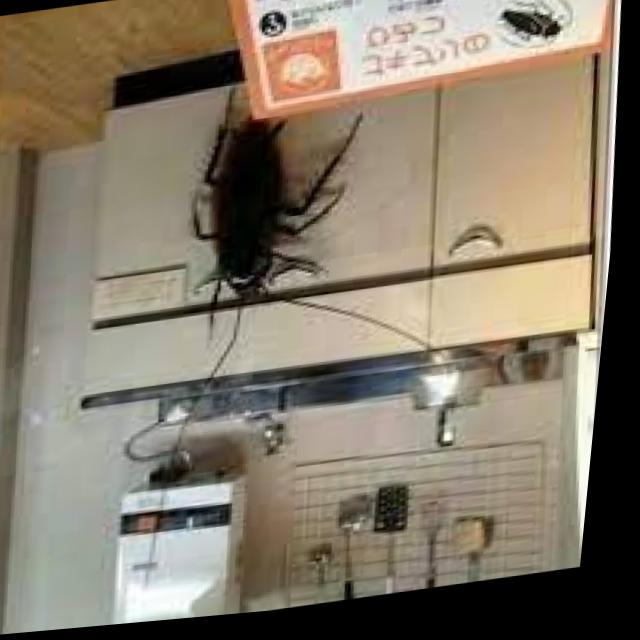Cockroach: (161, 79, 351, 385)
